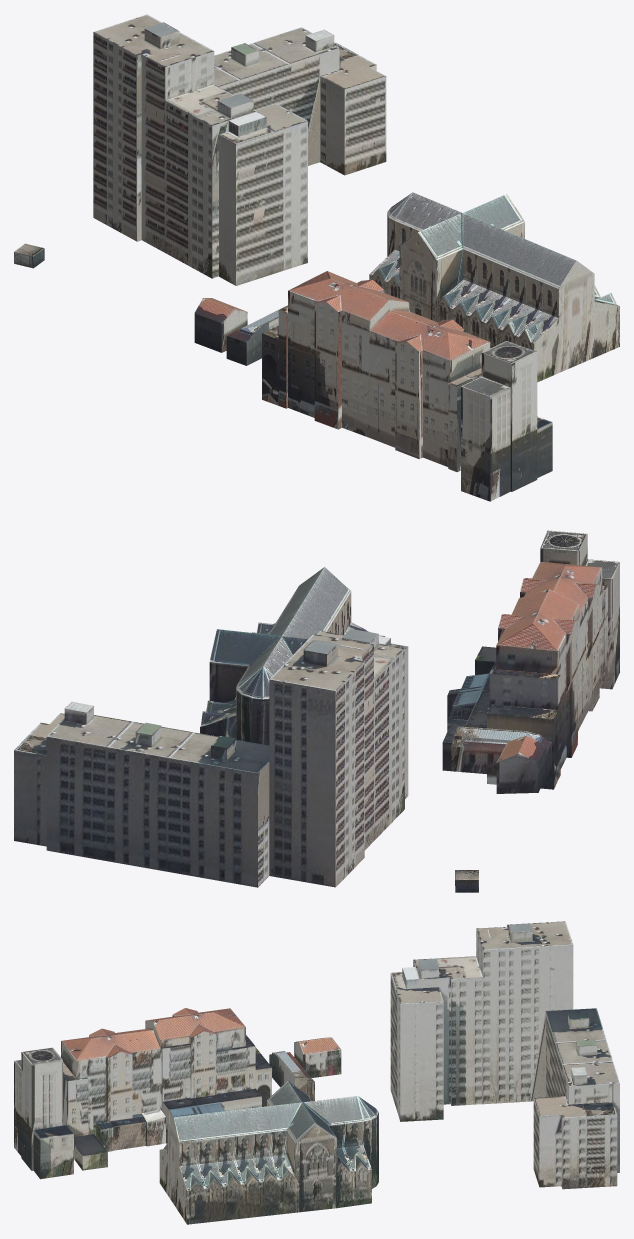
The model's file is LYON_1ER_00137.dae.
3 renders of one model, top to bottom at view 1: azimuth 30°, elevation 25°; view 2: azimuth 150°, elevation 25°; view 3: azimuth 270°, elevation 25°, orthographic. The views are drawn at different scales.
Bounding box in the file's own units: 106 × 166 × 63.44.
Materials: 2 (2 with a texture image).
